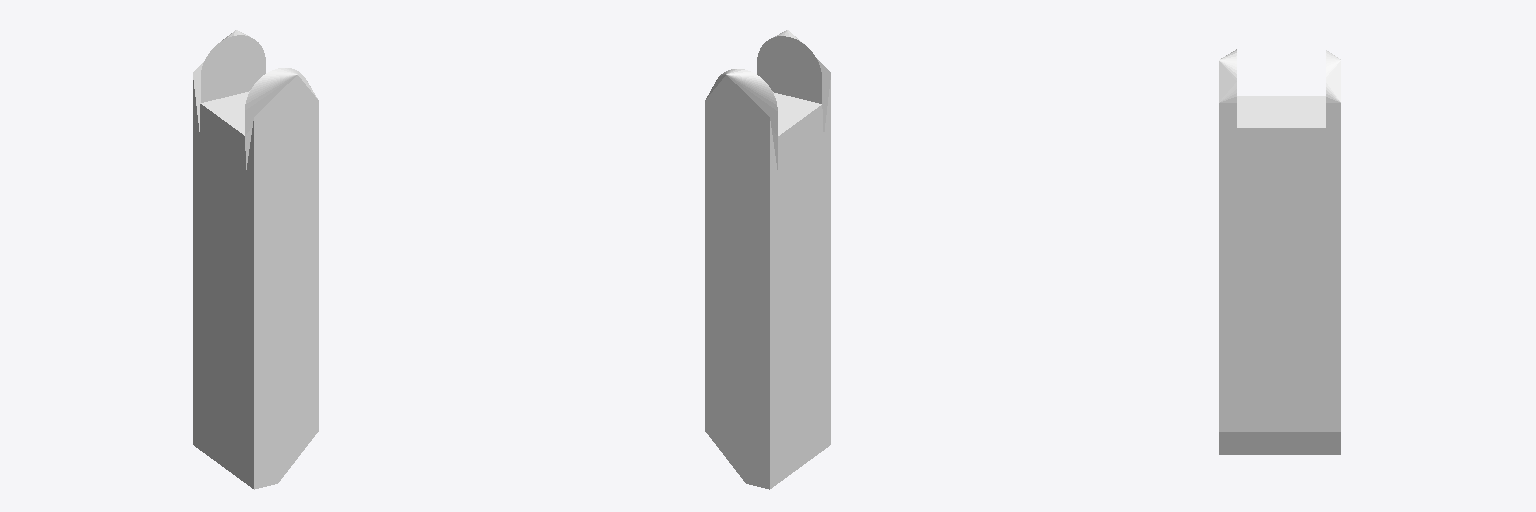
File: original-1.obj
3 renders of one model, left to right at view 1: azimuth 30°, elevation 25°; view 2: azimuth 150°, elevation 25°; view 3: azimuth 270°, elevation 25°, orthographic.
Visible parts, largest first — view 1: Obj_000001_1/Obj_000001/mesh1/mesh1-geometry#mesh1-geometry; view 2: Obj_000001_1/Obj_000001/mesh1/mesh1-geometry#mesh1-geometry; view 3: Obj_000001_1/Obj_000001/mesh1/mesh1-geometry#mesh1-geometry.
Part boxes in pixels (x1,y1,x2,y2): Obj_000001_1/Obj_000001/mesh1/mesh1-geometry#mesh1-geometry: (193, 30, 318, 489); Obj_000001_1/Obj_000001/mesh1/mesh1-geometry#mesh1-geometry: (705, 30, 830, 489); Obj_000001_1/Obj_000001/mesh1/mesh1-geometry#mesh1-geometry: (1219, 49, 1340, 454).
Size of the model in its own units: 0.0334 by 0.1984 by 0.0543.